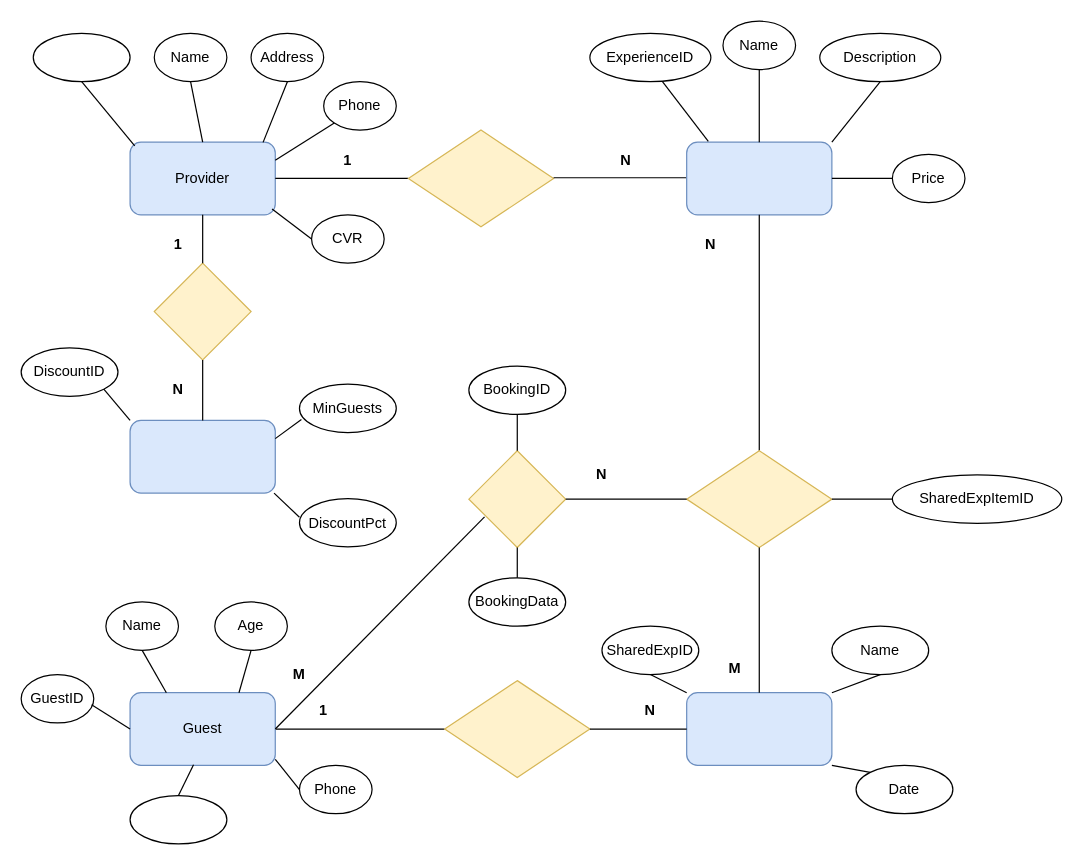
Some shapes in this 1083 by 865 pixel diagram are drawn without their labels. The shapes that lost their labels are listed below. From the top down, each one's box as (x1, y1, x2, y2) in pixels, then its label:
(32, 32, 130, 82): ProviderID
(407, 129, 554, 227): Offers
(685, 141, 832, 215): Experience
(153, 262, 251, 360): Has
(129, 419, 275, 493): Discount
(468, 450, 566, 548): Books
(685, 450, 832, 548): Include
(443, 679, 590, 777): Organizes
(685, 692, 832, 765): Shared Experience
(129, 794, 227, 844): PersonalID
